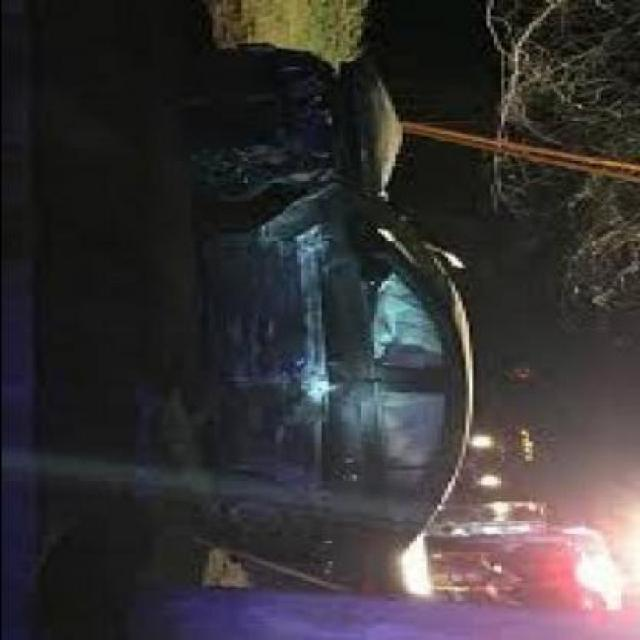damage: (195, 45, 405, 506)
